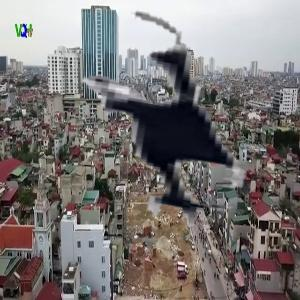drone: (31, 3, 296, 268)
